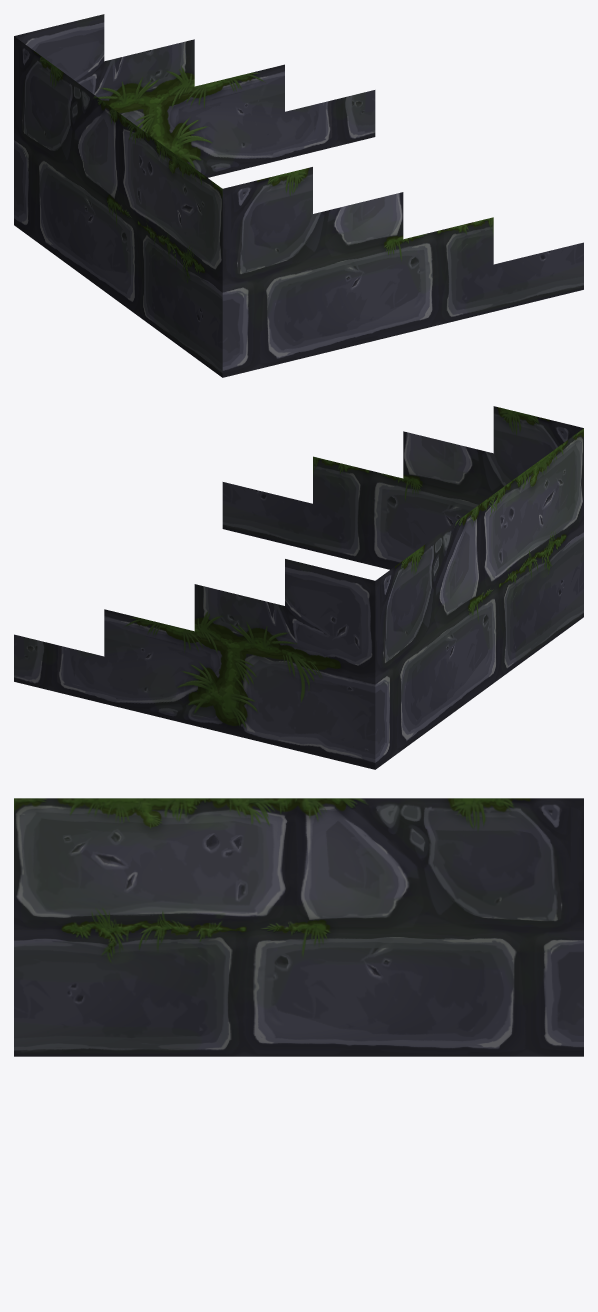
The model's file is MOD_Stairs_01_WallCover_4_half.fbx.
3 renders of one model, top to bottom at view 1: azimuth 30°, elevation 25°; view 2: azimuth 150°, elevation 25°; view 3: azimuth 270°, elevation 25°, orthographic. The views are drawn at different scales.
Parts seen in each view (by area): view 1: MOD_Stairs_01_WallCover_4_half; view 2: MOD_Stairs_01_WallCover_4_half; view 3: MOD_Stairs_01_WallCover_4_half.
Boxes of the visible parts, x1,y1,x2,y2 form: MOD_Stairs_01_WallCover_4_half: (14, 14, 583, 377); MOD_Stairs_01_WallCover_4_half: (14, 406, 583, 769); MOD_Stairs_01_WallCover_4_half: (14, 798, 583, 1056).
Size of what is drawn, in the model's own units: 200 by 100 by 200.
